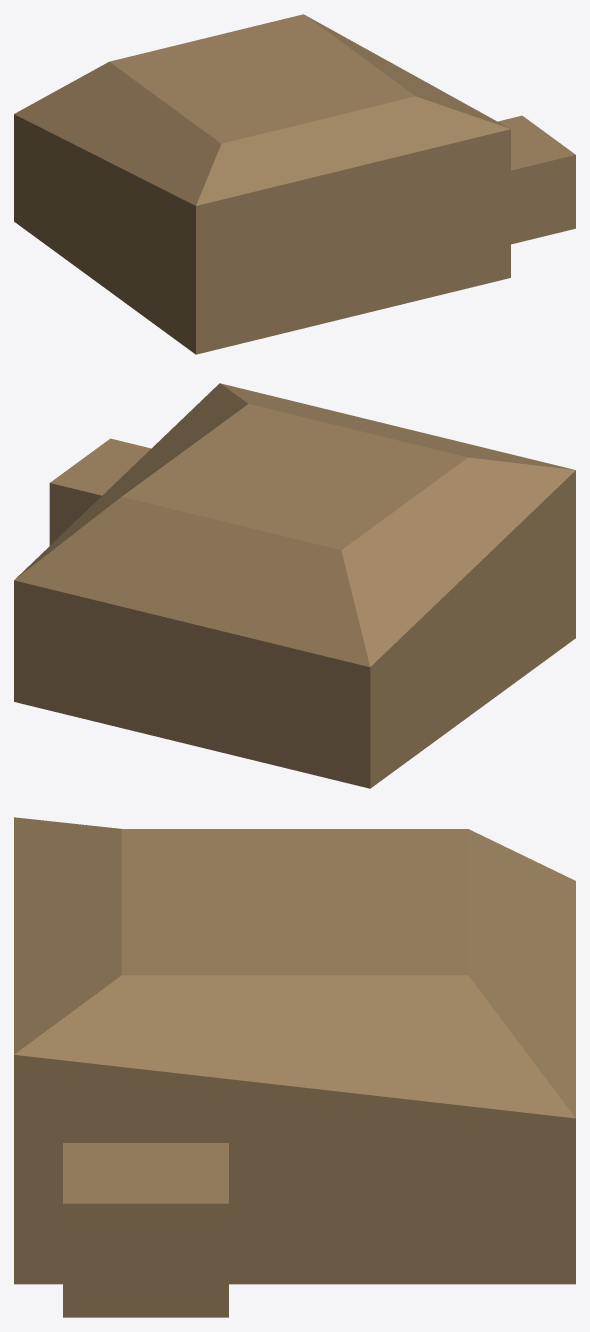
The model's file is rock_slinger_base.fbx.
3 views of the same model, one above another, from view 1: azimuth 30°, elevation 25°; view 2: azimuth 150°, elevation 25°; view 3: azimuth 270°, elevation 25° (orthographic). The views are drawn at different scales.
Parts seen in each view (by area): view 1: base; view 2: base; view 3: base.
Part boxes in pixels (x1,y1,x2,y2): base: (14, 14, 575, 354); base: (14, 383, 575, 788); base: (14, 817, 575, 1317).
Bounding box in the file's own units: 120 × 49.5 × 95.65.
1 material, 1 textured.
